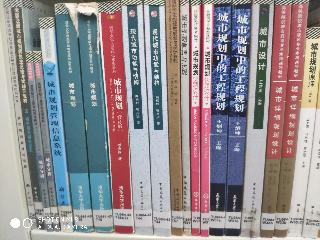book-spine: (56, 5, 92, 232), (273, 1, 307, 238), (11, 0, 46, 229), (240, 0, 273, 237), (283, 27, 320, 237), (78, 4, 112, 232), (100, 2, 133, 233), (259, 1, 290, 237), (4, 0, 36, 228), (40, 18, 73, 232), (122, 1, 152, 235), (223, 1, 250, 236), (146, 0, 170, 236), (208, 1, 231, 236), (27, 51, 52, 231), (35, 52, 60, 230), (167, 2, 182, 236), (200, 1, 213, 236), (182, 2, 190, 236), (192, 2, 200, 235)
